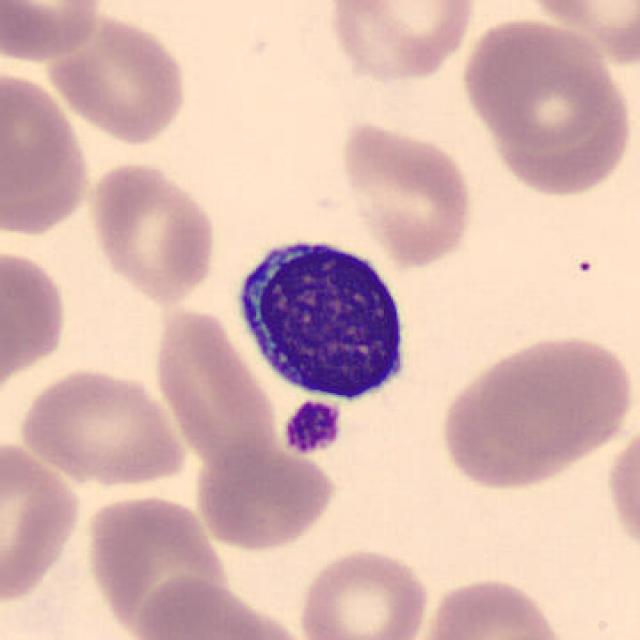Lymphocyte: (226, 222, 420, 416)
Platelets: (279, 398, 343, 456)
RBC: (433, 330, 634, 488), (144, 300, 285, 486), (473, 60, 636, 201), (80, 490, 231, 638), (457, 14, 619, 150), (336, 116, 478, 270), (14, 364, 190, 488), (41, 9, 192, 146), (86, 157, 220, 307), (192, 439, 340, 554), (0, 433, 85, 610), (0, 61, 85, 229), (293, 543, 434, 640), (323, 0, 480, 86), (132, 573, 304, 640), (0, 242, 71, 402), (412, 573, 570, 640), (521, 0, 640, 71), (2, 0, 106, 65), (602, 416, 640, 564)
